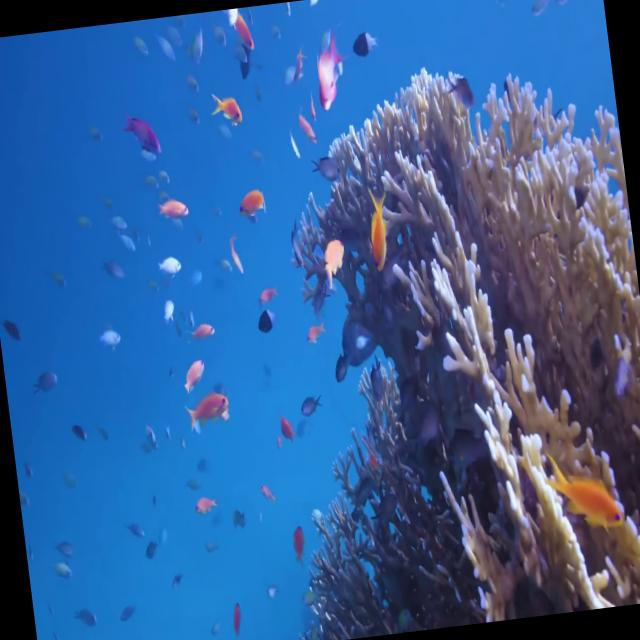fish: (548, 450, 626, 536), (311, 36, 348, 110), (362, 191, 393, 273), (185, 390, 233, 430), (210, 91, 243, 125)
